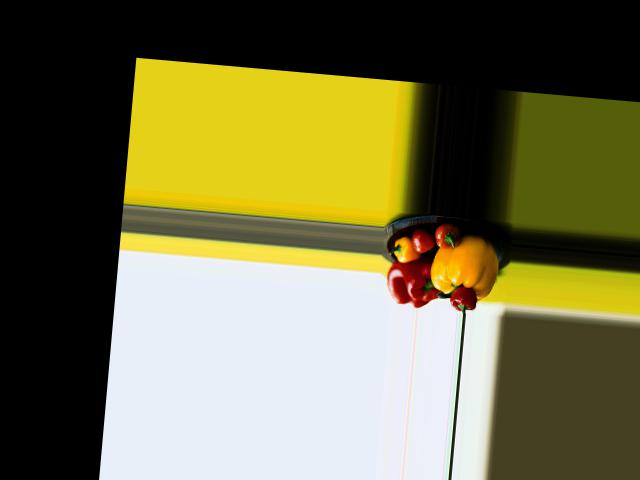bell_pepper: (389, 236, 419, 264)
